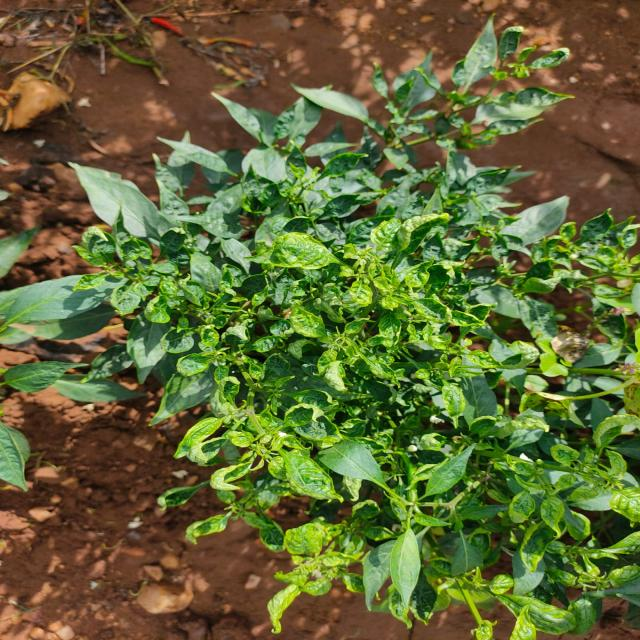Moko: (270, 208, 489, 372), (171, 355, 357, 527), (32, 219, 236, 368), (432, 40, 633, 162), (246, 488, 398, 637), (409, 512, 560, 640), (526, 402, 640, 563), (529, 209, 640, 349)
